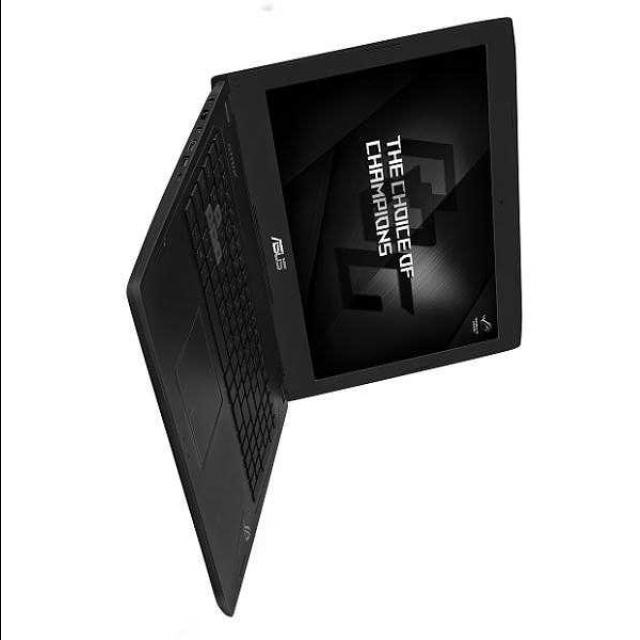laptop: (120, 15, 539, 636)
